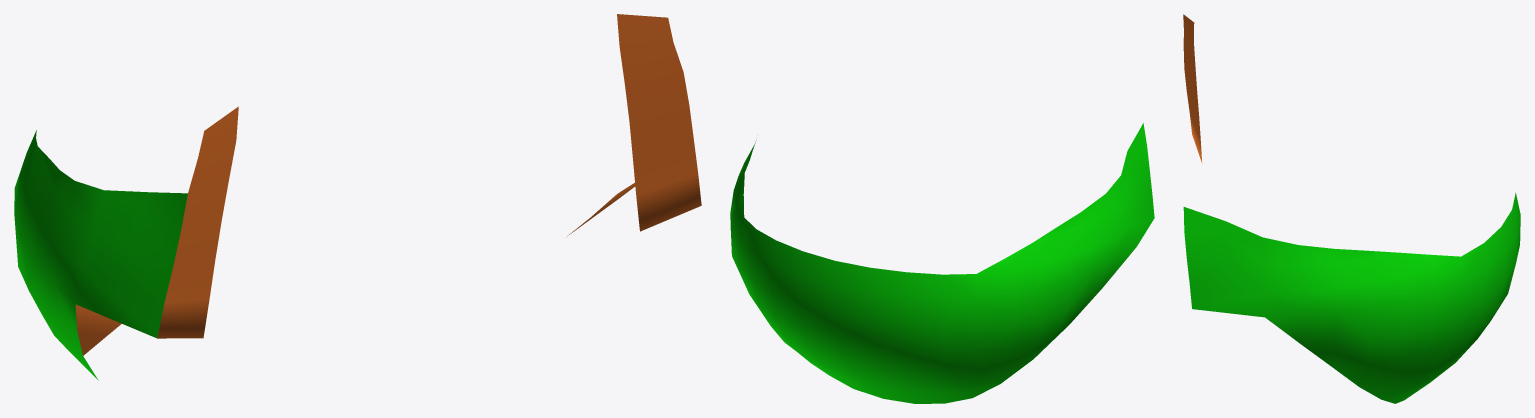
Rendered from Hair2_41.glb.
3 views of the same model, side by side, from view 1: azimuth 30°, elevation 25°; view 2: azimuth 150°, elevation 25°; view 3: azimuth 270°, elevation 25° (orthographic). The views are drawn at different scales.
Size of the model in its own units: 59.08 by 42.36 by 43.99.
